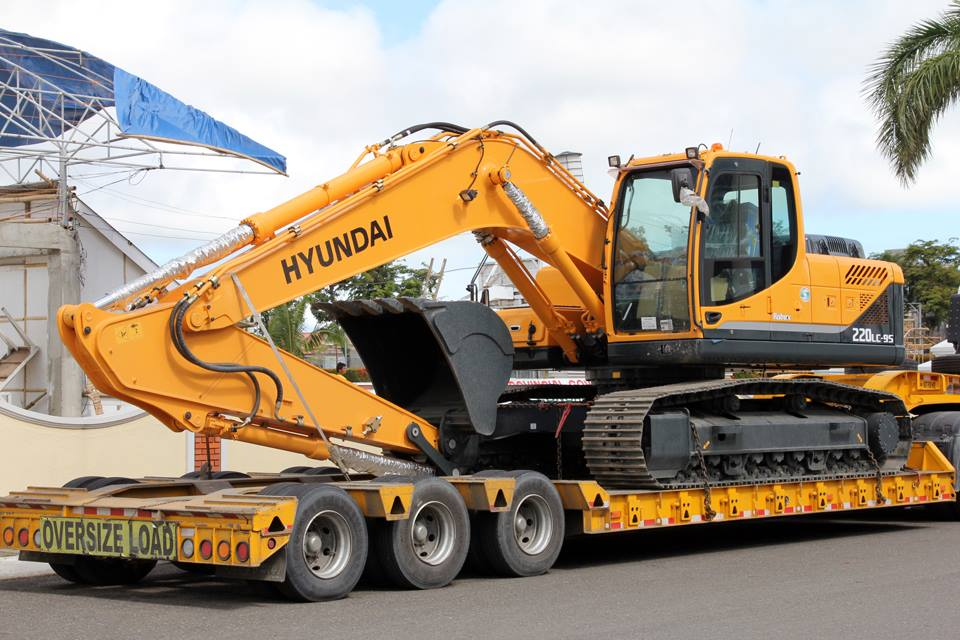backhoe: (87, 110, 933, 483)
